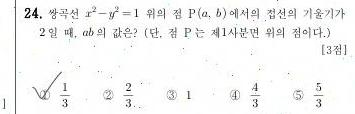choice: (32, 85, 52, 101)
not-choice: (164, 88, 178, 102), (291, 88, 305, 102), (228, 88, 241, 101), (101, 88, 114, 100)
